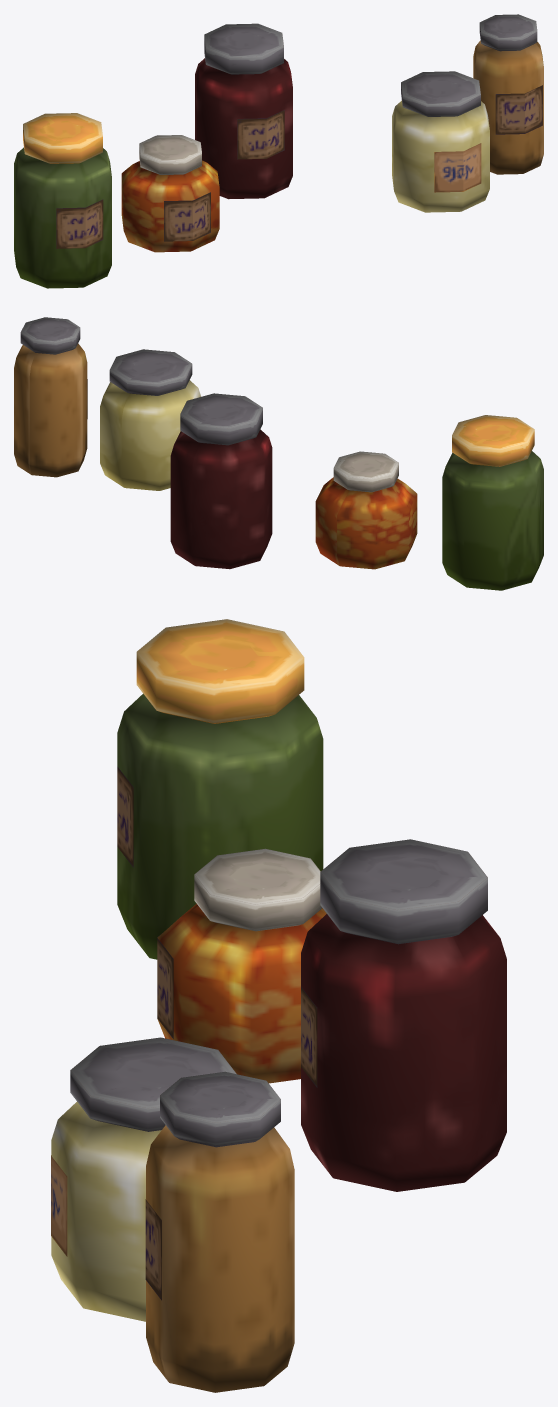
File: Jar_Group1_uo.fbx
3 renders of one model, top to bottom at view 1: azimuth 30°, elevation 25°; view 2: azimuth 150°, elevation 25°; view 3: azimuth 270°, elevation 25°, orthographic. The views are drawn at different scales.
Visible parts, largest first — view 1: Jar_Group1; view 2: Jar_Group1; view 3: Jar_Group1.
Boxes of the visible parts, x1,y1,x2,y2 form: Jar_Group1: [14, 14, 543, 288]; Jar_Group1: [14, 317, 543, 590]; Jar_Group1: [51, 619, 506, 1392].
Size of the model in its own units: 80.01 by 20.47 by 30.44.
Materials: 1 (1 with a texture image).
